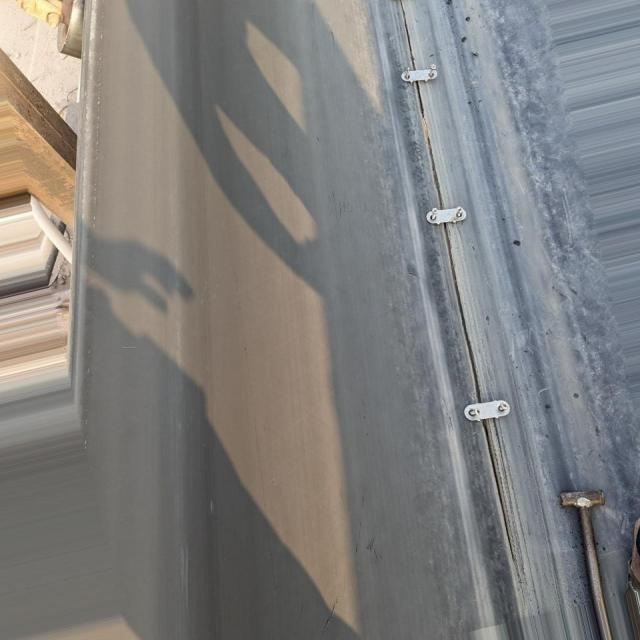Other Objects: (554, 483, 619, 639)
Roller: (54, 0, 94, 56)
patch work: (390, 9, 533, 566)
